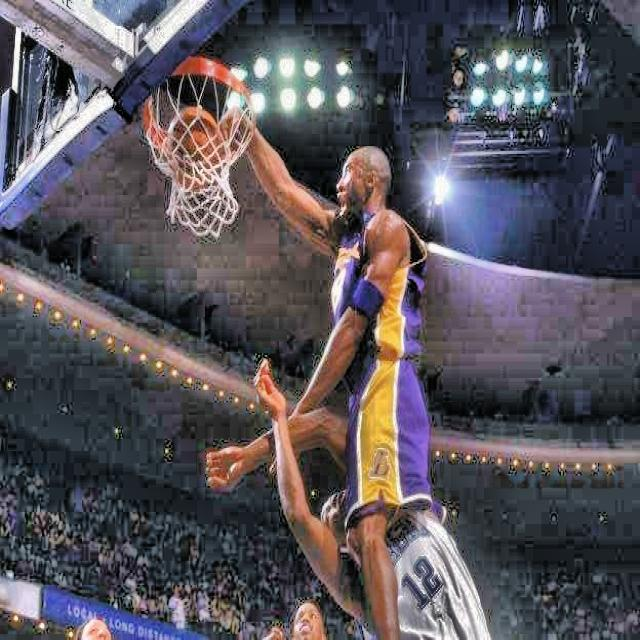rim: (146, 53, 254, 235)
